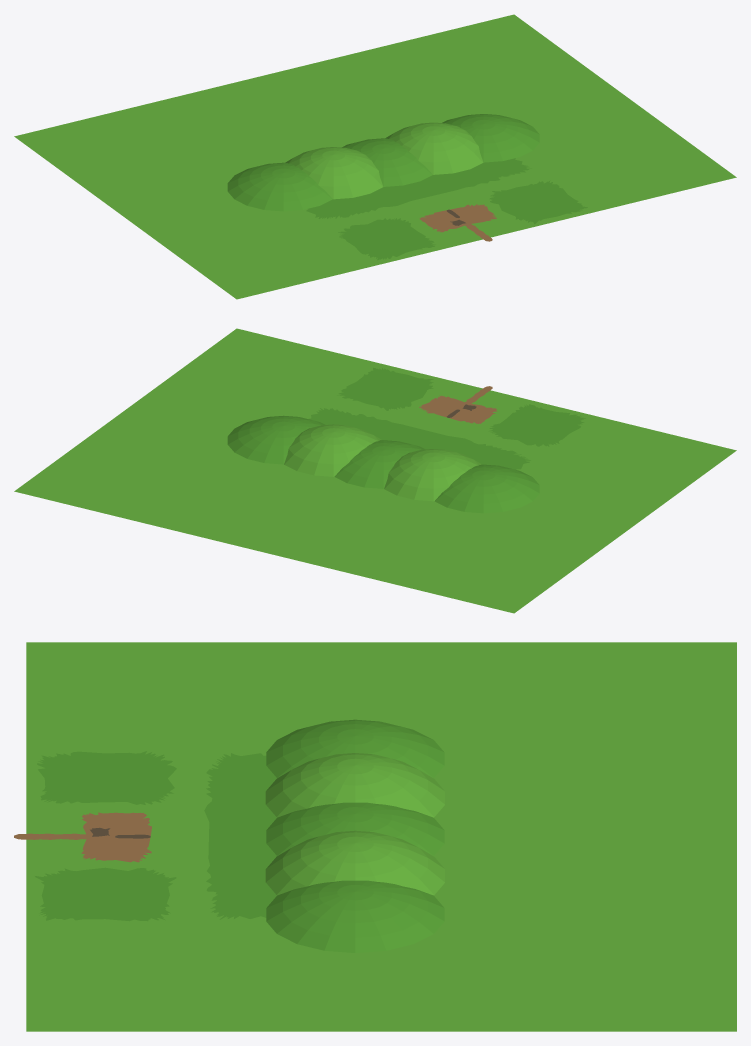
The model's file is ground_hub.glb.
3 renders of one model, top to bottom at view 1: azimuth 30°, elevation 25°; view 2: azimuth 150°, elevation 25°; view 3: azimuth 270°, elevation 25°, orthographic. The views are drawn at different scales.
Parts seen in each view (by area): view 1: Grass__62AC3A, Grass__549C32, Ground__967048; view 2: Grass__62AC3A, Grass__549C32, Ground__967048; view 3: Grass__62AC3A, Grass__549C32, Ground__967048.
Part boxes in pixels (box(x1,y1,x2,y2)): Grass__62AC3A: box(14, 14, 736, 299); Grass__549C32: box(227, 114, 587, 260); Ground__967048: box(419, 204, 496, 241); Grass__62AC3A: box(14, 328, 736, 613); Grass__549C32: box(227, 367, 585, 513); Ground__967048: box(419, 386, 497, 423); Grass__62AC3A: box(26, 642, 736, 1031); Grass__549C32: box(35, 719, 444, 952); Ground__967048: box(14, 812, 151, 862).
Bounding box in the file's own units: 700 × 28 × 550.
